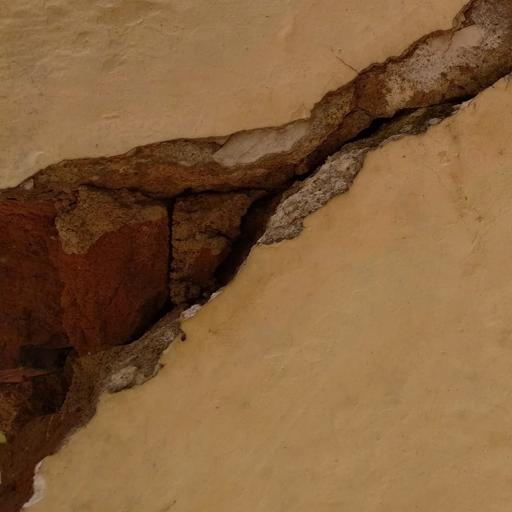spalling: (6, 0, 512, 512)
